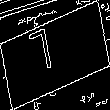L_S: (41, 27, 69, 83)
